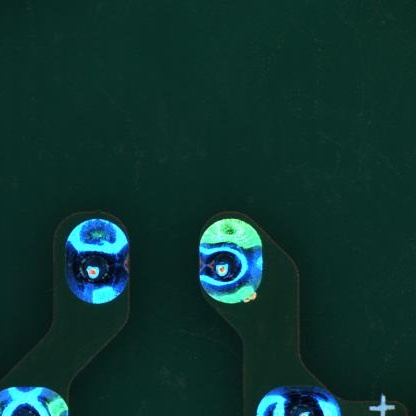spot: (64, 218, 131, 307), (197, 217, 264, 306), (254, 384, 343, 416), (1, 384, 71, 416)
